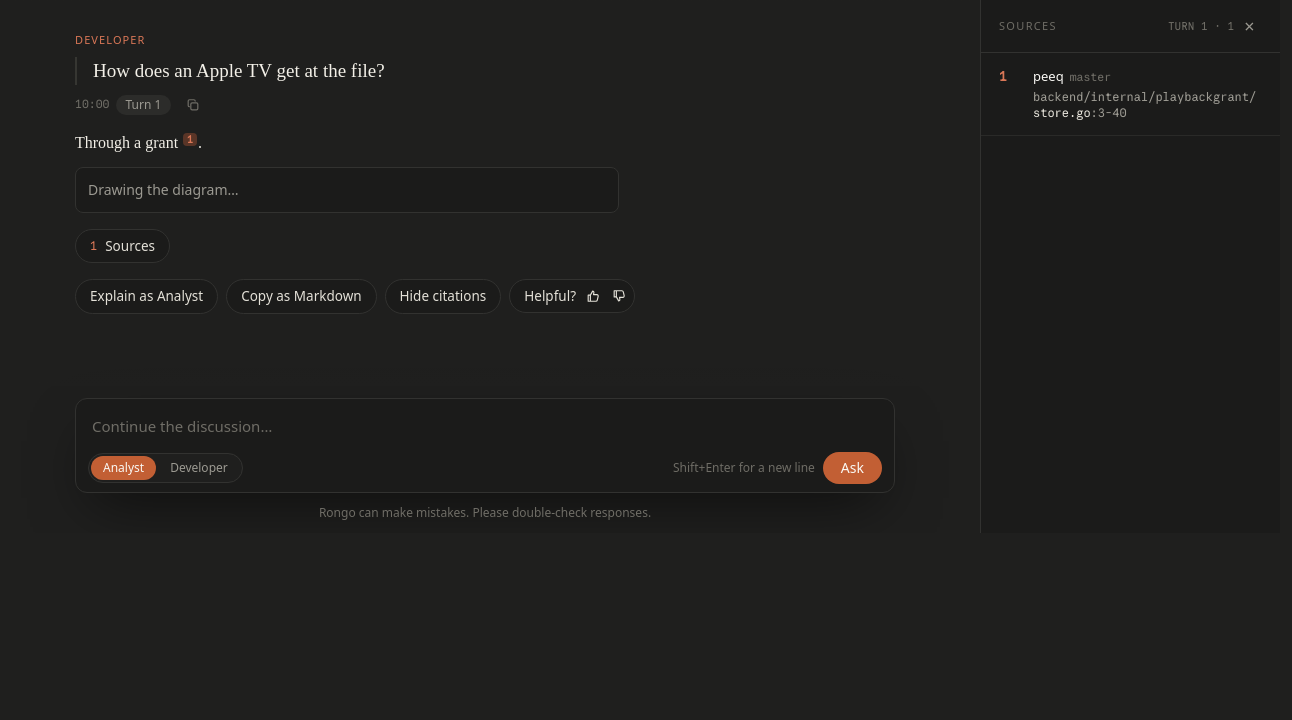
Test case: Ask, a stored thread › copies a diagram as mermaid, not as the fence rongo writes it in
The image size is (1292, 720).
Click the button "Copy as Markdown": (301, 296) x1=226 y1=279 x2=377 y2=314
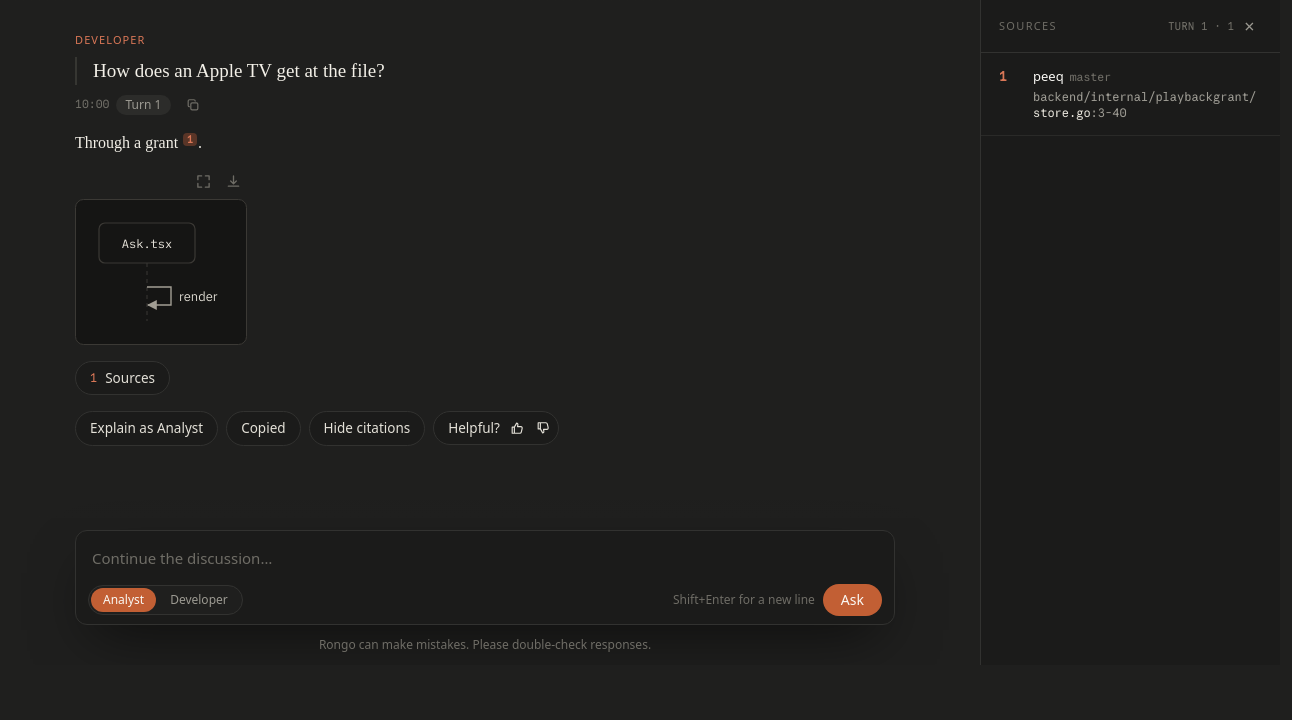
Expected: the button "Copied" is shown, x1=226 y1=411 x2=301 y2=446
